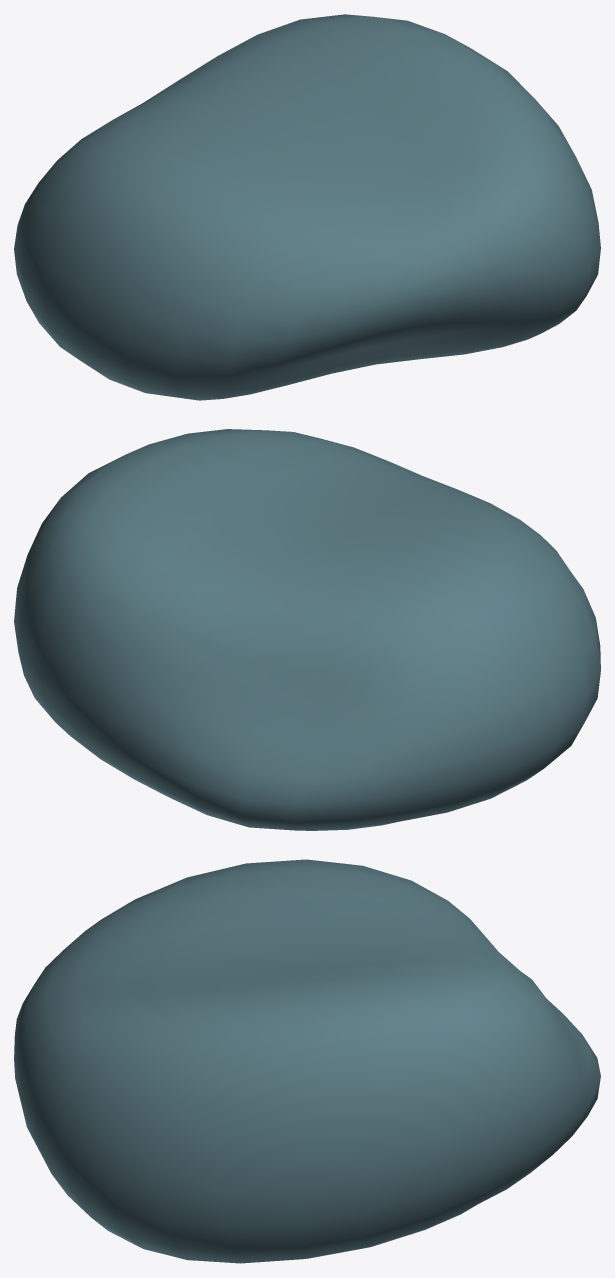
Rendered from Rock_C_06.fbx.
3 renders of one model, top to bottom at view 1: azimuth 30°, elevation 25°; view 2: azimuth 150°, elevation 25°; view 3: azimuth 270°, elevation 25°, orthographic. The views are drawn at different scales.
Visible parts, largest first — view 1: Rock_C_06_LOD0; view 2: Rock_C_06_LOD0; view 3: Rock_C_06_LOD0.
Part boxes in pixels (left/top/right/bottom): Rock_C_06_LOD0: left=14, top=14, right=600, bottom=400; Rock_C_06_LOD0: left=14, top=429, right=600, bottom=830; Rock_C_06_LOD0: left=14, top=859, right=600, bottom=1263.
Size of what is drawn, in the model's own units: 627 by 283 by 595.
